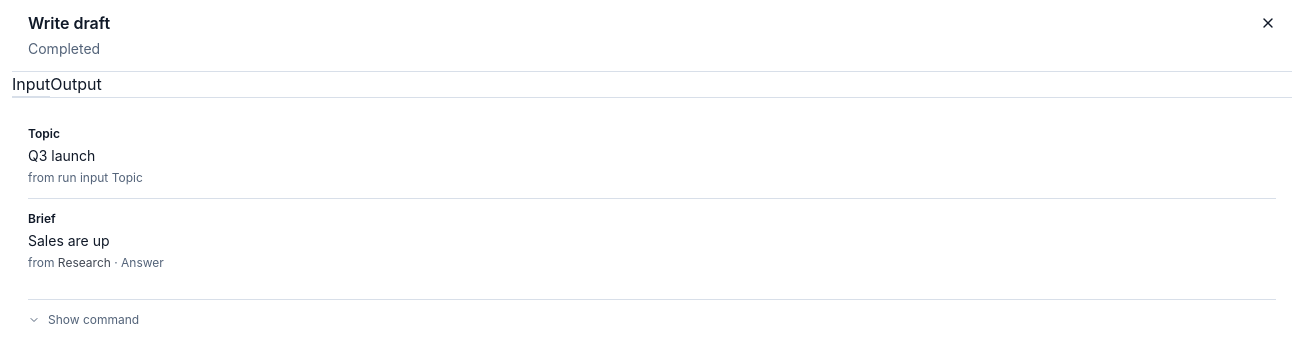
it: StepPanel — tabs › renders a presented tool result on the Output tab
Click the tab "Output" at {"x": 76, "y": 85}, box [50,72,102,98]
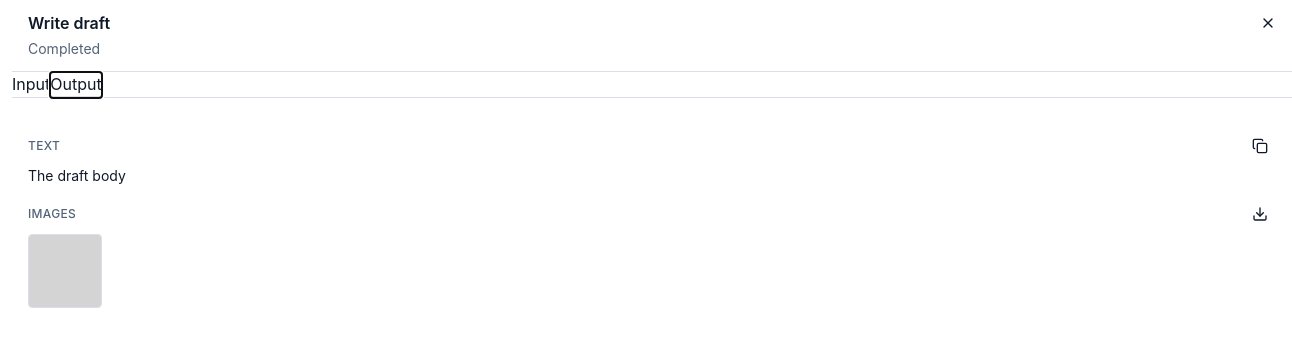
Check: the text "The draft body" is shown, box [28,167,126,184]
Check: the button named "Copy Text" is shown, box [1244,130,1276,162]
Check: the button named "Download writer output" is shown, box [1244,198,1276,230]
